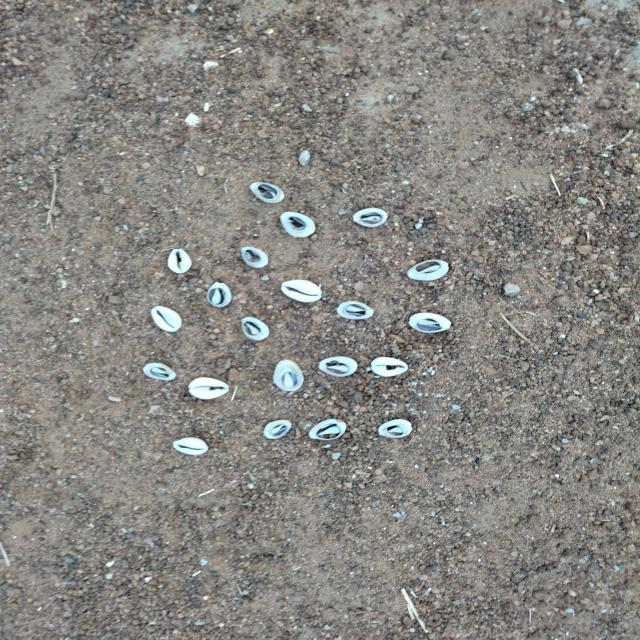facedown: (300, 415, 352, 446), (276, 208, 321, 242), (270, 355, 307, 396), (197, 279, 241, 313), (404, 309, 458, 336), (310, 353, 362, 381), (345, 205, 395, 234), (401, 257, 456, 283), (331, 295, 382, 323), (135, 357, 183, 386), (245, 178, 289, 208), (236, 312, 276, 344), (372, 417, 419, 442), (236, 245, 276, 273), (258, 413, 296, 442)
faceup: (276, 276, 328, 308), (363, 354, 419, 381), (148, 301, 188, 337), (185, 375, 234, 403), (164, 246, 202, 281), (164, 434, 215, 458)
